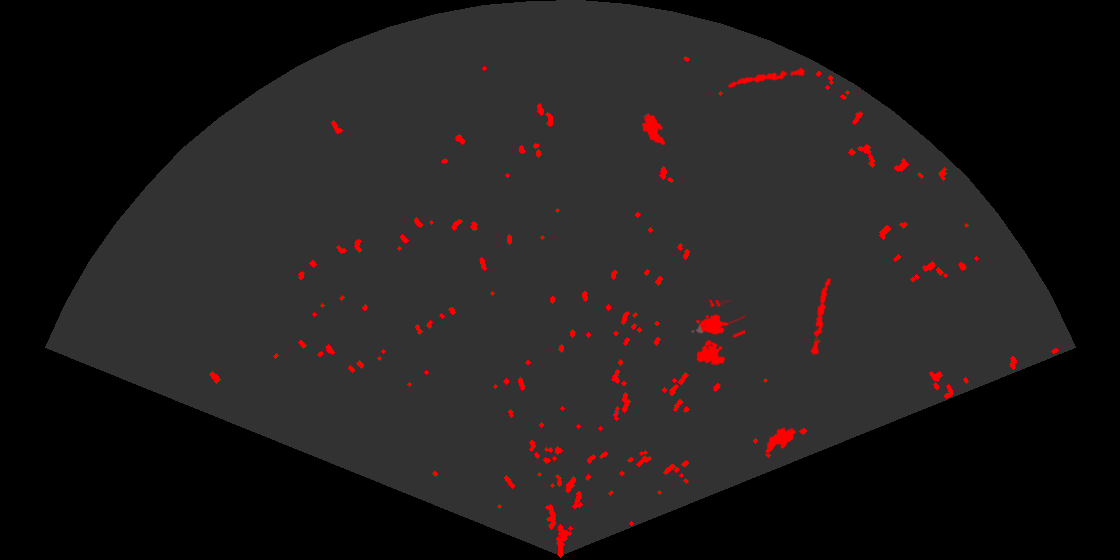AUV: (764, 426, 798, 455), (640, 112, 667, 147)
cage: (690, 300, 745, 367)
chain: (809, 276, 833, 356), (726, 66, 806, 89)
